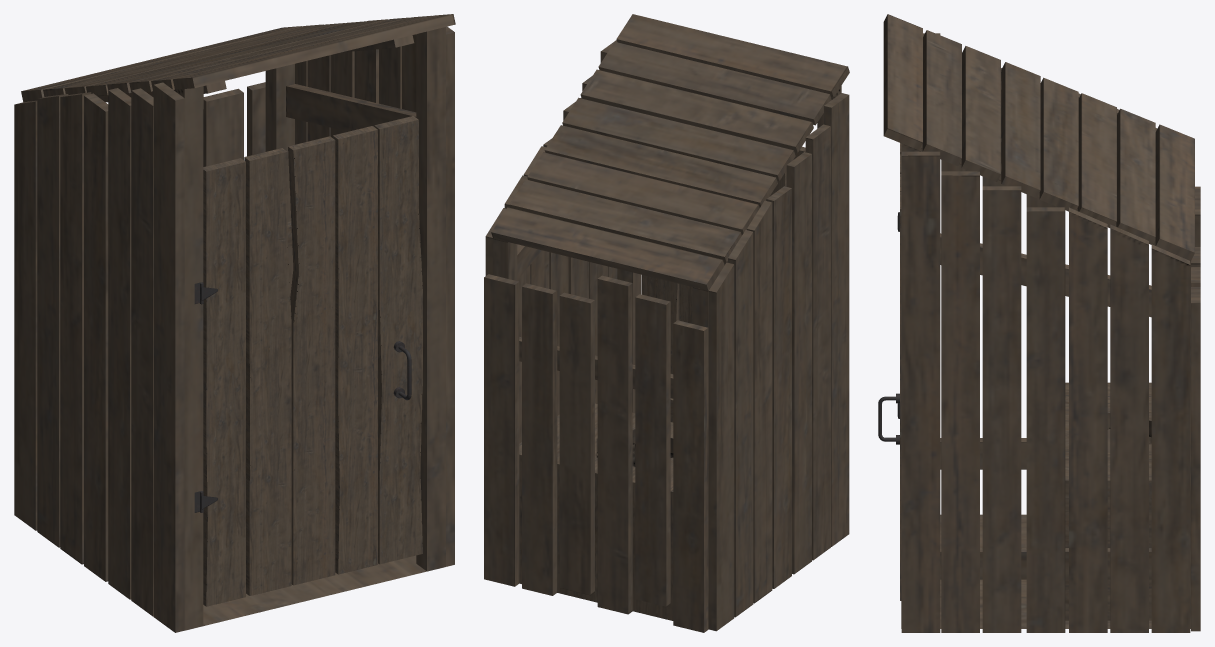
Rendered from Outhouse.fbx.
3 views of the same model, side by side, from view 1: azimuth 30°, elevation 25°; view 2: azimuth 150°, elevation 25°; view 3: azimuth 270°, elevation 25° (orthographic). The views are drawn at different scales.
Parts seen in each view (by area): view 1: Main, Door; view 2: Main, Door; view 3: Main, Door.
Boxes of the visible parts, x1,y1,x2,y2 form: Main: (14,14,455,632); Door: (194,116,422,606); Main: (484,14,849,632); Door: (642,146,805,422); Main: (883,14,1200,632); Door: (878,143,901,600).
Bounding box in the file's own units: 150 × 167 × 286.
